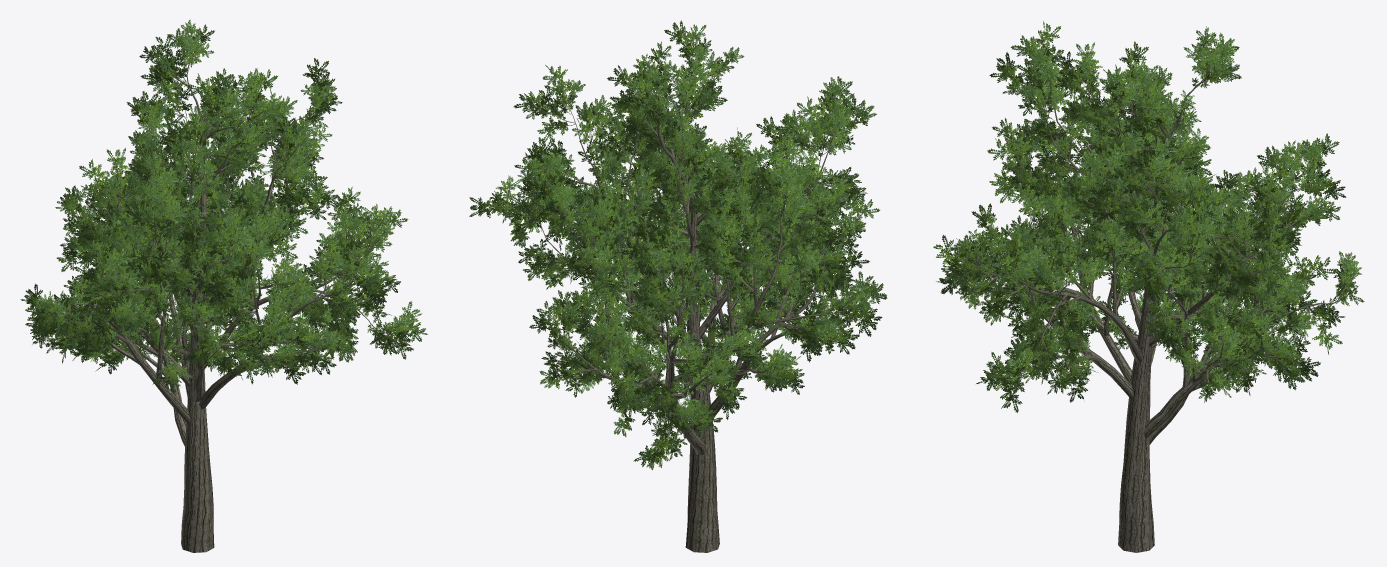
The model's file is ash_large_02.glb.
3 renders of one model, left to right at view 1: azimuth 30°, elevation 25°; view 2: azimuth 150°, elevation 25°; view 3: azimuth 270°, elevation 25°, orthographic. The views are drawn at different scales.
Visible parts, largest first — view 1: Tree; view 2: Tree; view 3: Tree.
Boxes of the visible parts, box(x1,y1,x2,y2) form: Tree: box(20, 20, 427, 552); Tree: box(469, 20, 887, 552); Tree: box(933, 21, 1364, 552).
Size of the model in its own units: 70.58 by 96.22 by 73.73.
2 materials, 2 textured.
